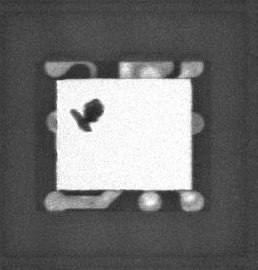DIE_INK: (69, 97, 108, 133)
